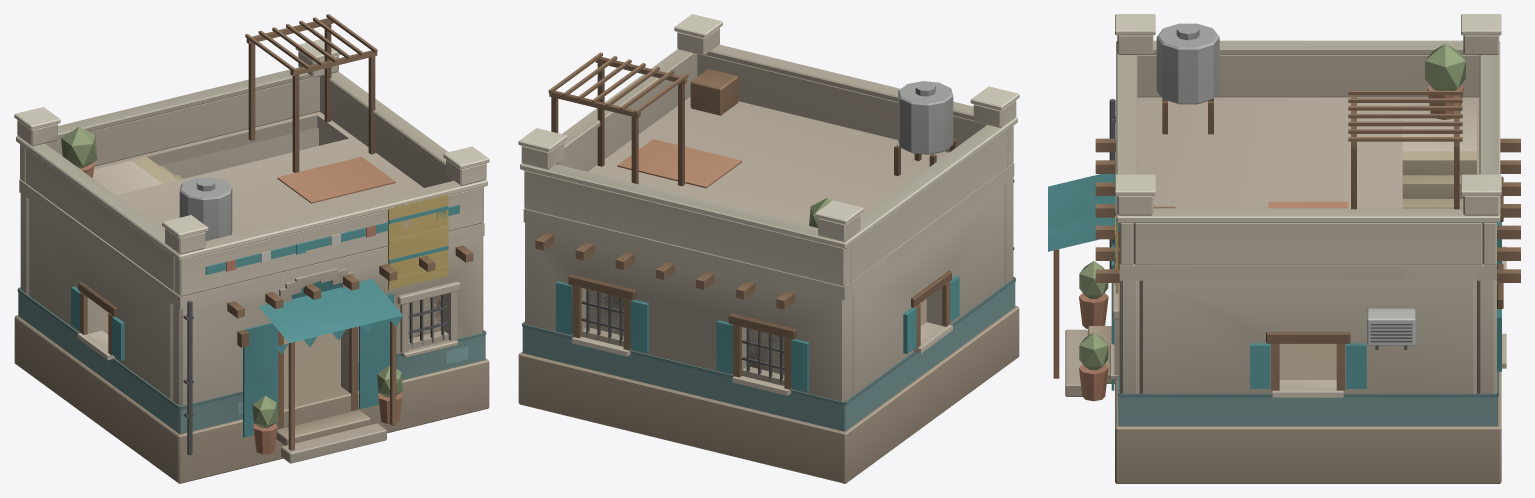
File: house_0.glb
The picture shows the model from 3 angles, left to right: view 1: azimuth 30°, elevation 25°; view 2: azimuth 150°, elevation 25°; view 3: azimuth 270°, elevation 25°; orthographic projection. The views are drawn at different scales.
Parts seen in each view (by area): view 1: house_0; view 2: house_0; view 3: house_0.
Boxes of the visible parts, x1,y1,x2,y2 form: house_0: (14,14,489,483); house_0: (518,14,1019,483); house_0: (1048,14,1520,483).
Bounding box in the file's own units: 7.84 × 6.54 × 8.27.
